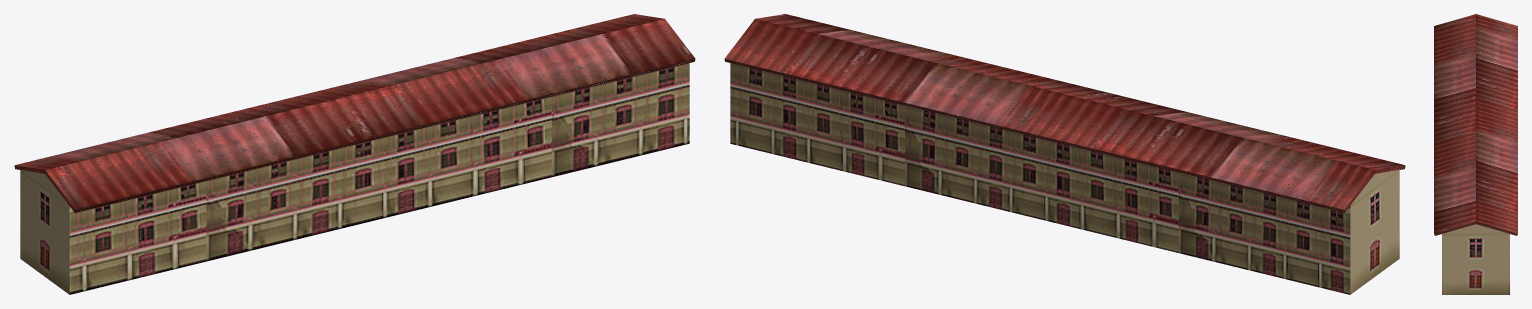
The model's file is monoblockbloquetrasero.fbx.
3 renders of one model, left to right at view 1: azimuth 30°, elevation 25°; view 2: azimuth 150°, elevation 25°; view 3: azimuth 270°, elevation 25°, orthographic. The views are drawn at different scales.
Parts seen in each view (by area): view 1: Cube, Cube.002, Cube.001; view 2: Cube, Cube.001, Cube.002; view 3: Cube.001, Cube.002, Cube.
Part boxes in pixels (<box>): Cube: <box>20,63,689,294</box>; Cube.002: <box>45,19,695,212</box>; Cube.001: <box>14,14,664,173</box>; Cube: <box>730,63,1399,294</box>; Cube.001: <box>724,19,1375,212</box>; Cube.002: <box>755,14,1405,173</box>; Cube.001: <box>1475,14,1517,235</box>; Cube.002: <box>1434,14,1475,235</box>; Cube: <box>1442,224,1509,294</box>.
Size of the model in its own units: 9995 by 1646 by 1708.
